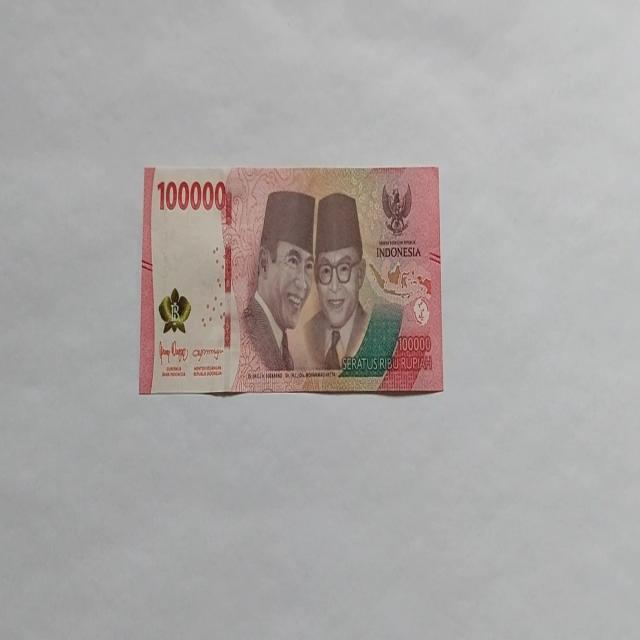seratus ribu rupiah: (138, 164, 444, 396)
